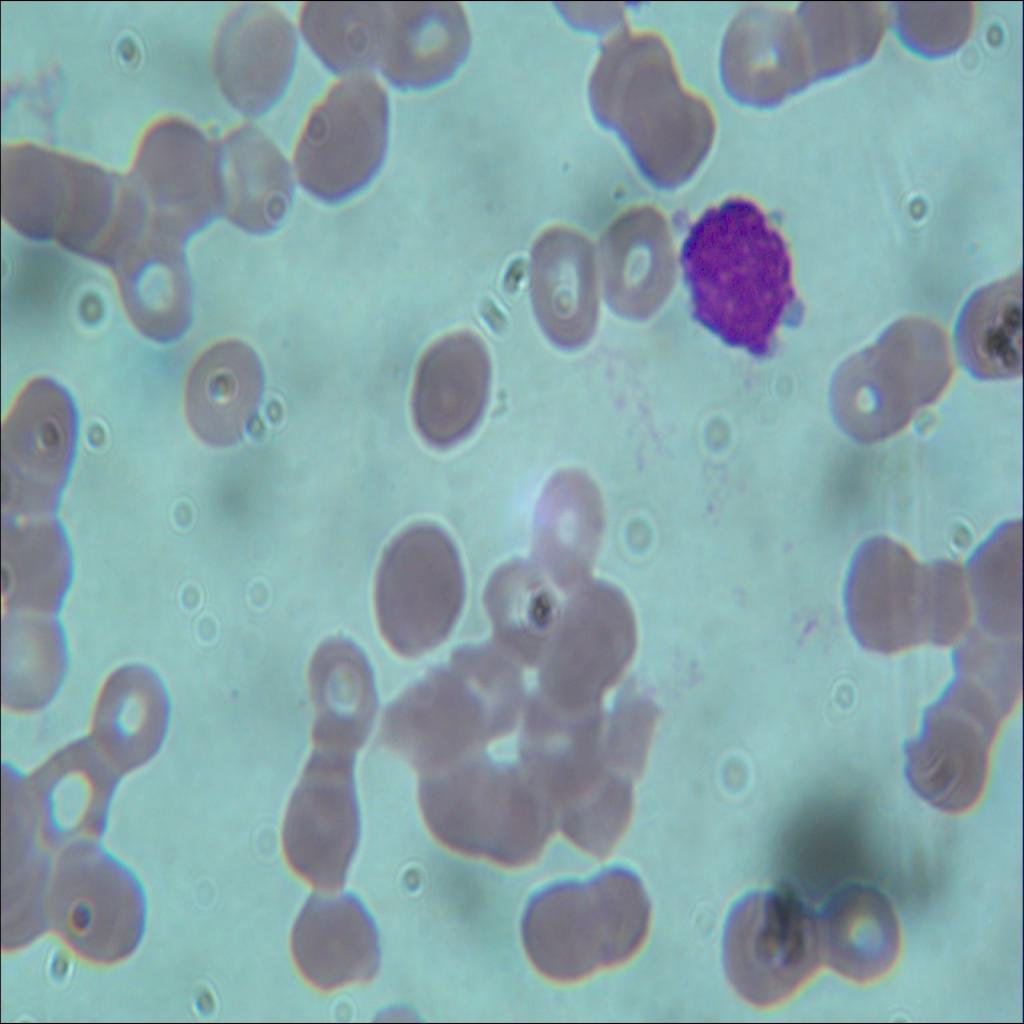Eritrosit: (370, 506, 468, 664), (396, 321, 504, 459), (293, 65, 388, 221), (721, 868, 821, 1012), (50, 844, 154, 970), (511, 216, 599, 358), (111, 225, 206, 354), (173, 326, 268, 452), (546, 578, 642, 701), (202, 124, 295, 248), (826, 342, 915, 468), (569, 847, 655, 977), (386, 0, 492, 105), (278, 774, 369, 895), (293, 642, 378, 770), (593, 204, 679, 330), (390, 664, 486, 774), (411, 740, 506, 850), (212, 1, 294, 128), (90, 664, 176, 785), (131, 112, 218, 230), (526, 461, 610, 583), (836, 530, 919, 652), (26, 732, 118, 842), (286, 884, 382, 988), (2, 367, 78, 495), (868, 301, 954, 414), (620, 78, 710, 184), (579, 17, 668, 124), (906, 715, 995, 818), (523, 696, 618, 790), (709, 8, 810, 95), (486, 552, 568, 658), (0, 602, 74, 719), (518, 877, 598, 984), (303, 0, 396, 92), (550, 754, 636, 852), (444, 632, 524, 737), (476, 758, 551, 870), (954, 257, 1023, 378), (822, 886, 903, 984), (792, 0, 890, 79), (0, 504, 68, 614), (903, 550, 979, 648), (43, 142, 115, 245), (962, 520, 1023, 637), (86, 159, 152, 266), (0, 139, 69, 238), (931, 671, 1003, 752), (956, 630, 1023, 705)
Limfoblast: (686, 189, 804, 371)
